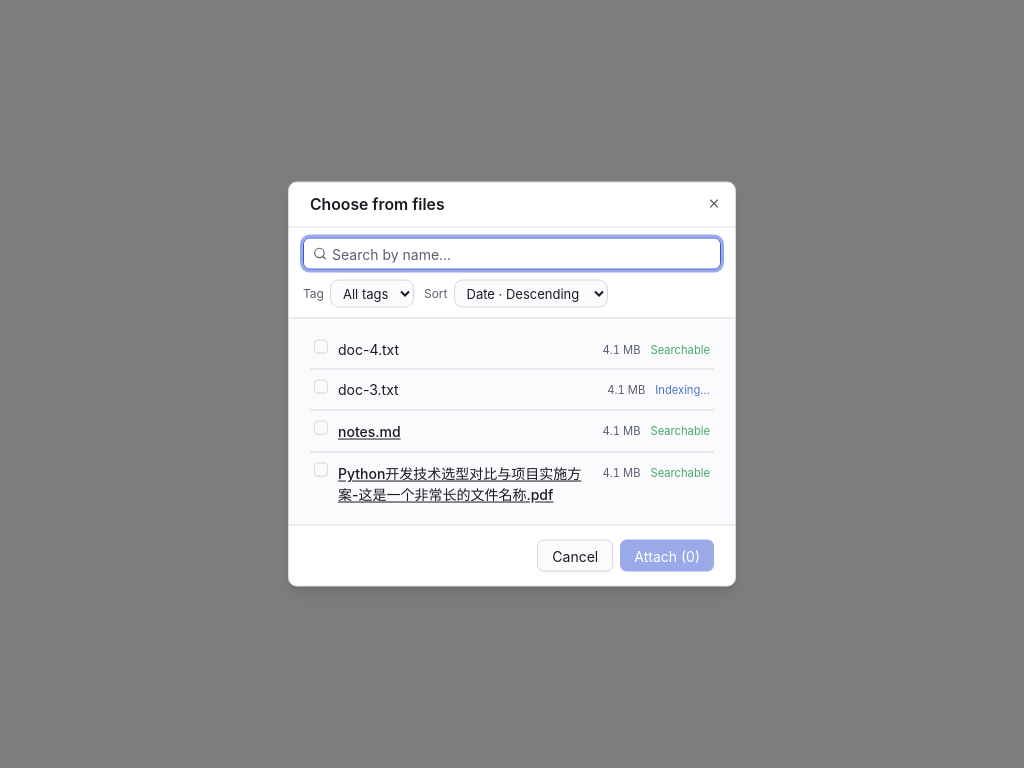
Test: FilePickerSheet › filters by filename search and tag
Expected: the button "Python开发技术选型对比与项目实施方案-这是一个非常长的文件名称.pdf" is shown, [338, 462, 592, 504]
Type "notes" into the field with placeholder "Search by name…". click: {"x": 512, "y": 254}
box: [303, 238, 721, 269]
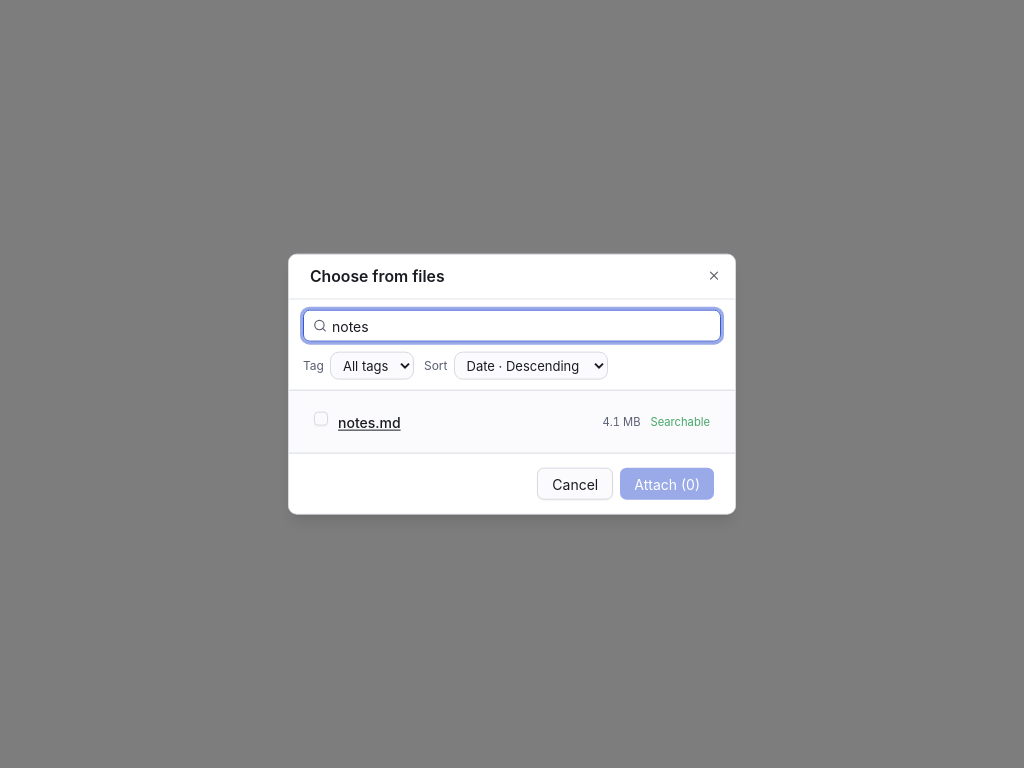
Expected: the button "notes.md" is shown, [338, 411, 592, 432]
Now the text "doc-3.txt" is gone
Clear the field with placeholder "Search by name…". click: {"x": 512, "y": 326}
box: [303, 310, 721, 341]
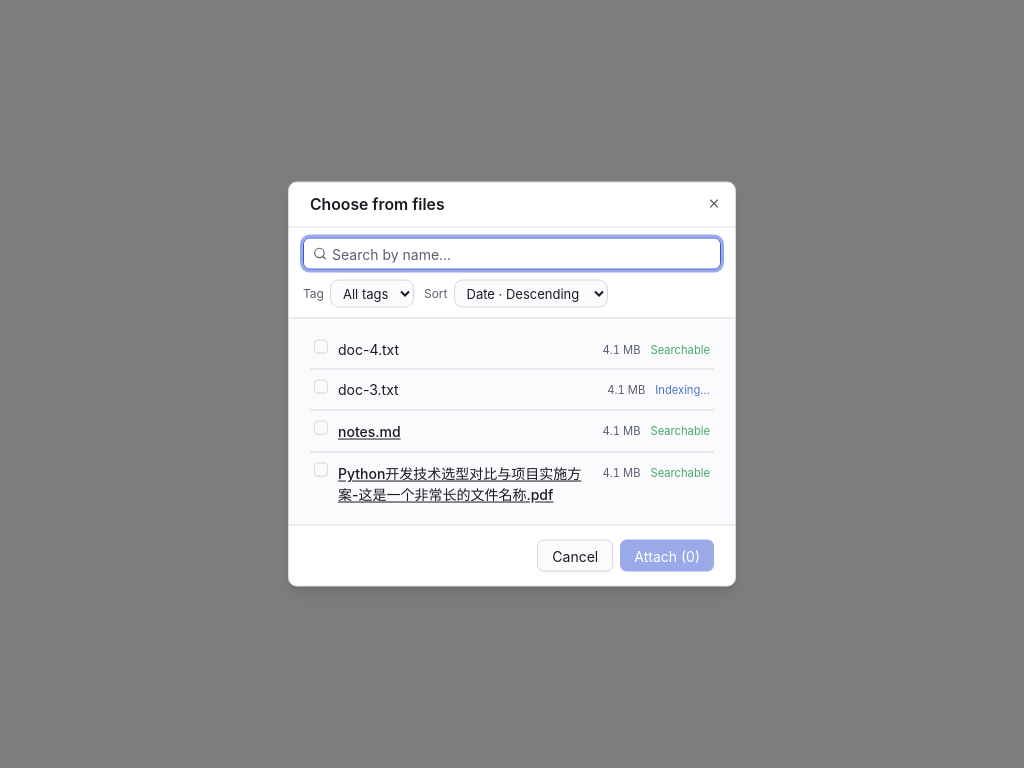
Select "Alpha" in the dropdown labelled "Tag". click: {"x": 372, "y": 293}
box: [330, 279, 414, 307]
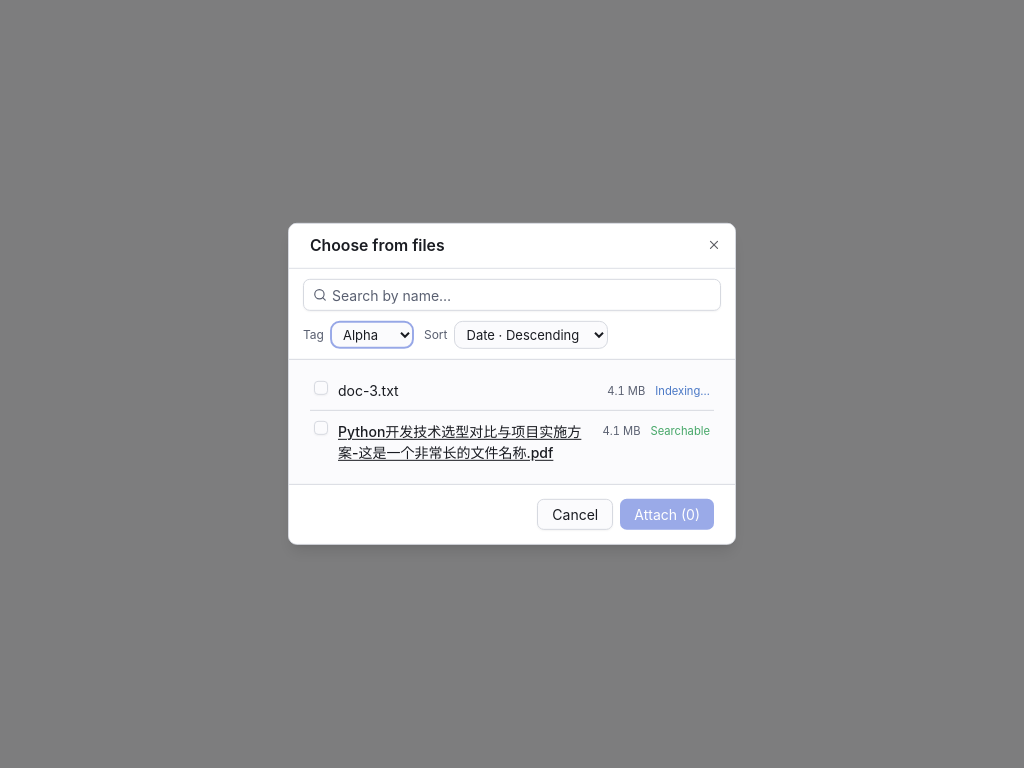
Now the button "notes.md" is gone
